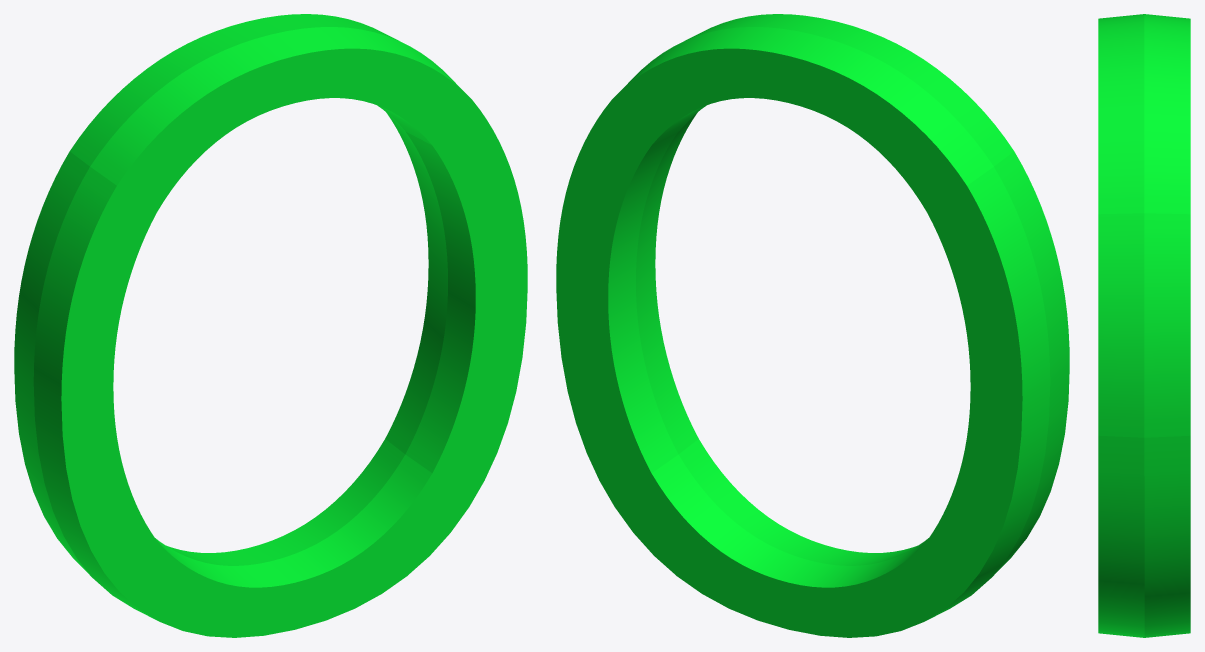
Rendered from O_Color.FBX.
The picture shows the model from 3 angles, left to right: view 1: azimuth 30°, elevation 25°; view 2: azimuth 150°, elevation 25°; view 3: azimuth 270°, elevation 25°; orthographic projection. The views are drawn at different scales.
Parts seen in each view (by area): view 1: O_Color; view 2: O_Color; view 3: O_Color.
Part boxes in pixels (box(x1,y1,x2,y2)): O_Color: box(14, 14, 527, 637); O_Color: box(556, 14, 1069, 637); O_Color: box(1098, 14, 1190, 637).
Bounding box in the file's own units: 75.38 × 88.4 × 13.
